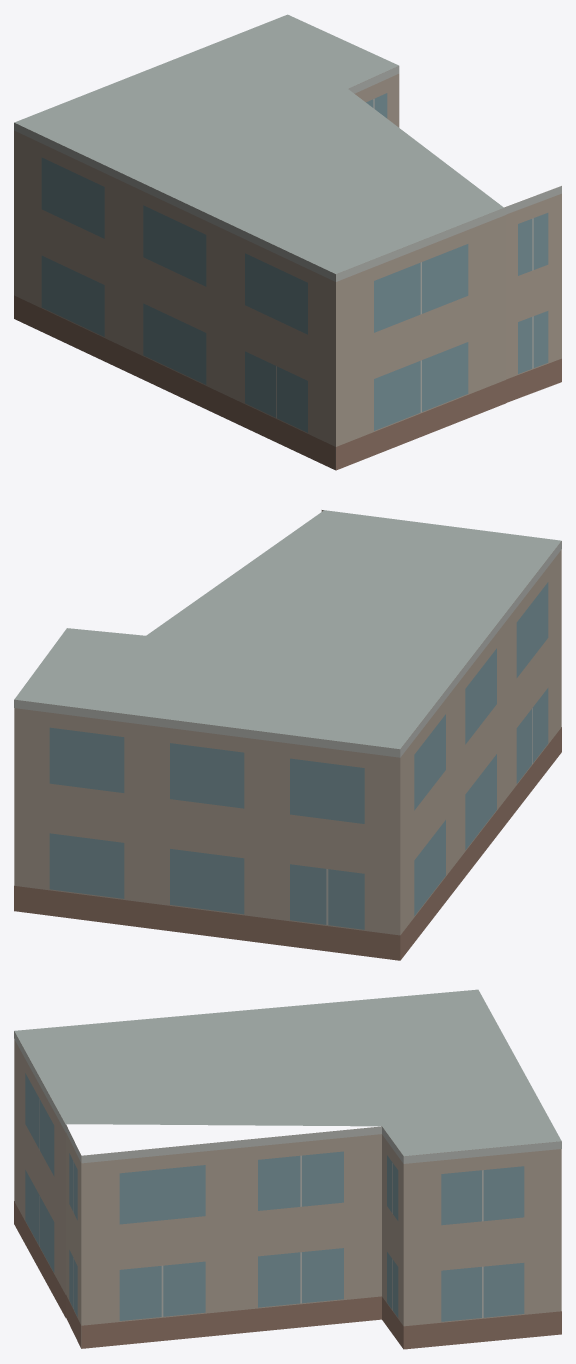
The model's file is survey-upis-32493718.glb.
The picture shows the model from 3 angles, top to bottom: view 1: azimuth 30°, elevation 25°; view 2: azimuth 150°, elevation 25°; view 3: azimuth 270°, elevation 25°; orthographic projection. The views are drawn at different scales.
Visible parts, largest first — view 1: survey-upis-32493718.tmp; view 2: survey-upis-32493718.tmp; view 3: survey-upis-32493718.tmp.
Boxes of the visible parts, <box> form: survey-upis-32493718.tmp: <box>14,14,561,470</box>; survey-upis-32493718.tmp: <box>14,510,561,960</box>; survey-upis-32493718.tmp: <box>14,989,561,1349</box>.
Bounding box in the file's own units: 11.31 × 6.1 × 15.69.
